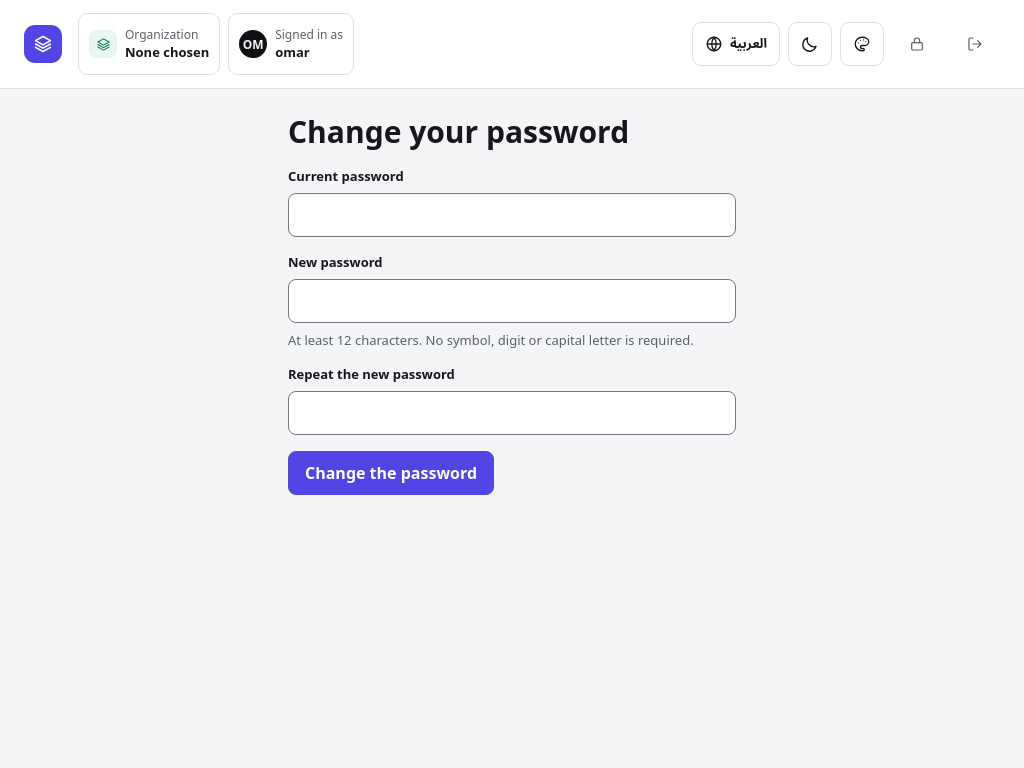
Test: a session_expired on it lands on the login screen, not on a blank page
The width and height of the screenshot is (1024, 768).
Expected: the heading "Change your password" is shown, [288,111,629,152]
Type "the current one" into the password field labelled "Current password" at point(512, 215), box [288,193,736,237]
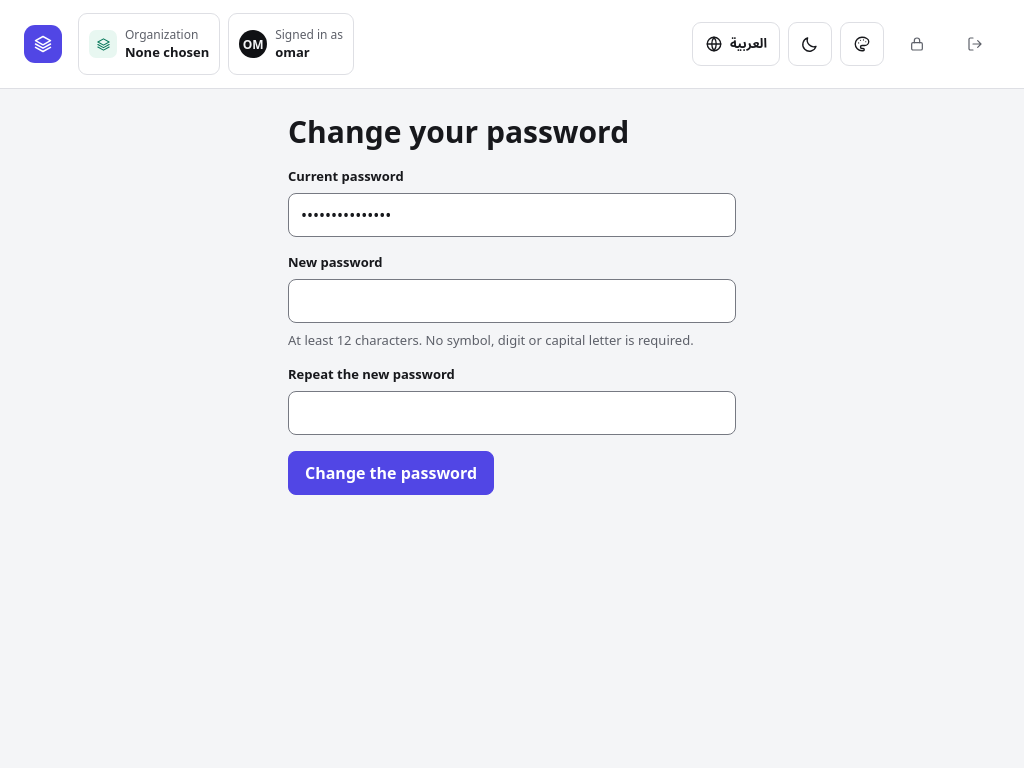
Type "a new password" into the password field labelled "New password" at point(512, 301), box [288,279,736,323]
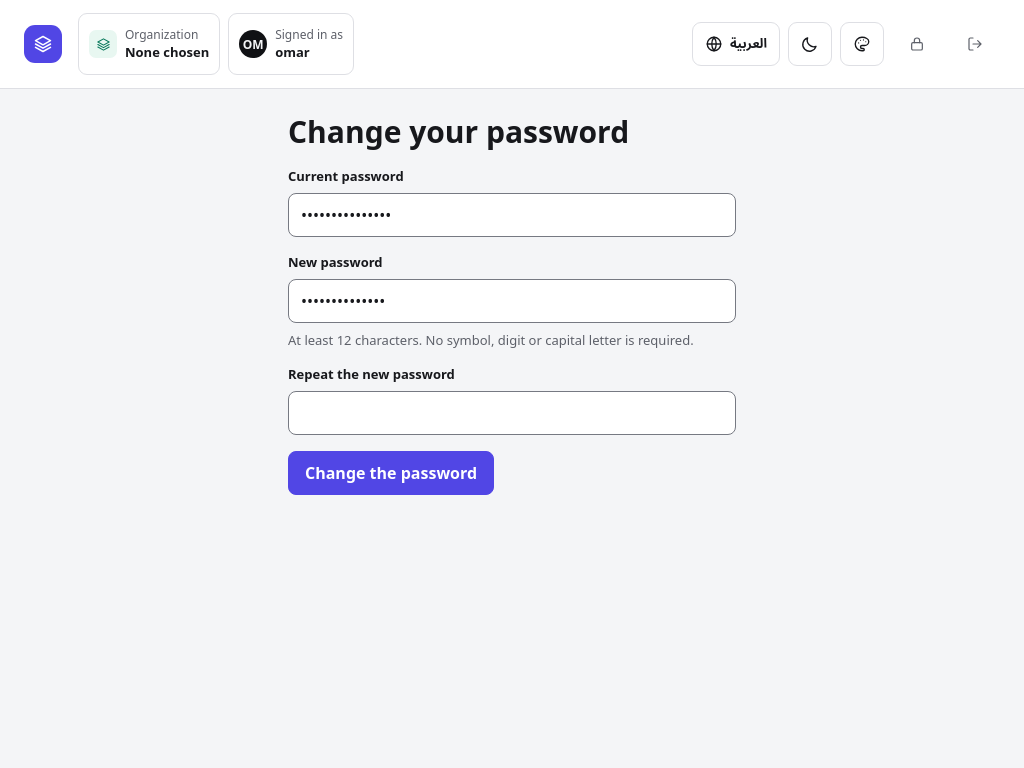
Type "a new password" into the password field labelled "Repeat the new password" at point(512, 413), box [288,391,736,435]
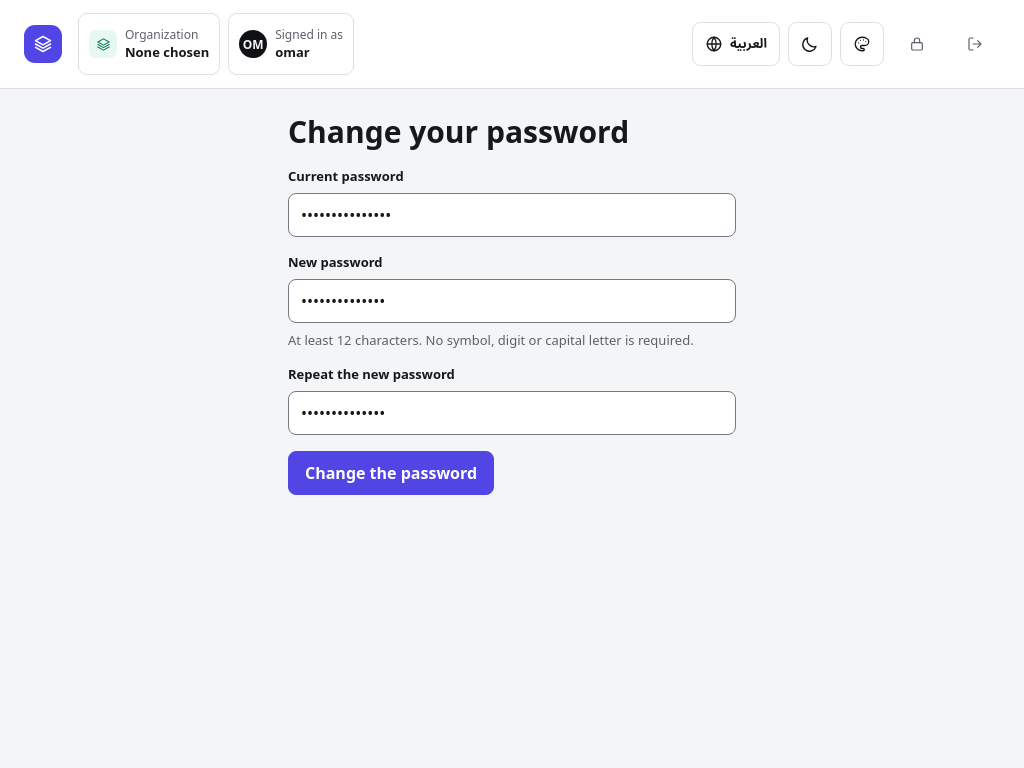
Click the button "Change the password" at point(391, 473), box [288,451,494,495]
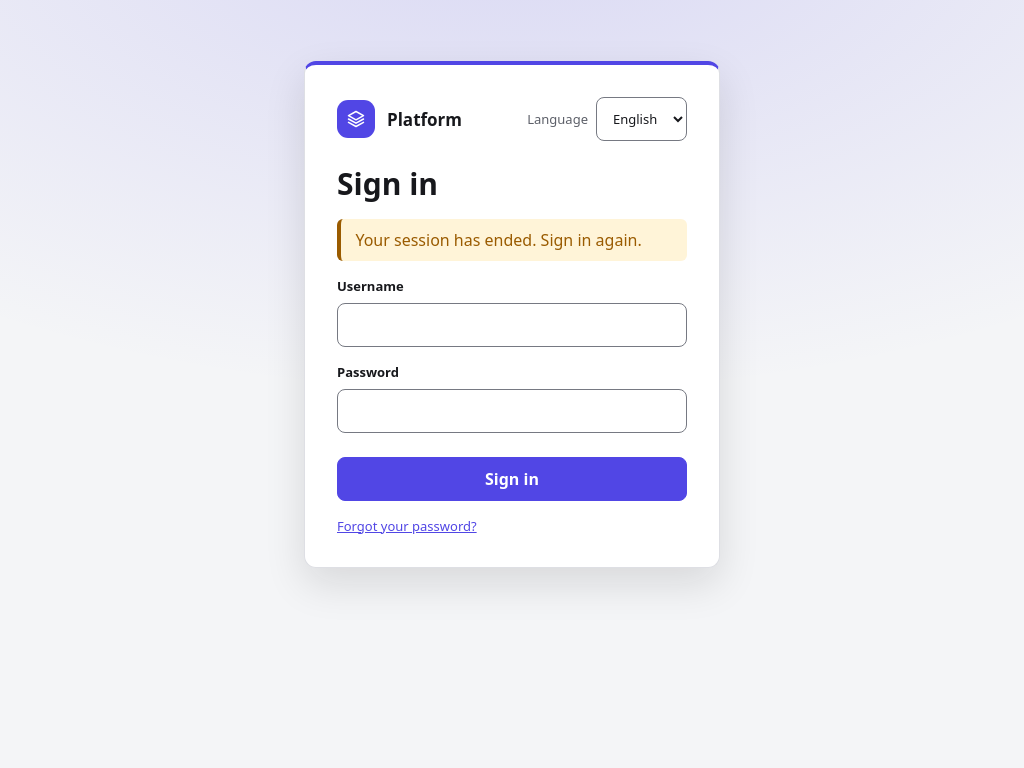
Expected: the text "Your session has ended. Sign in again." is shown, [337,219,687,261]
